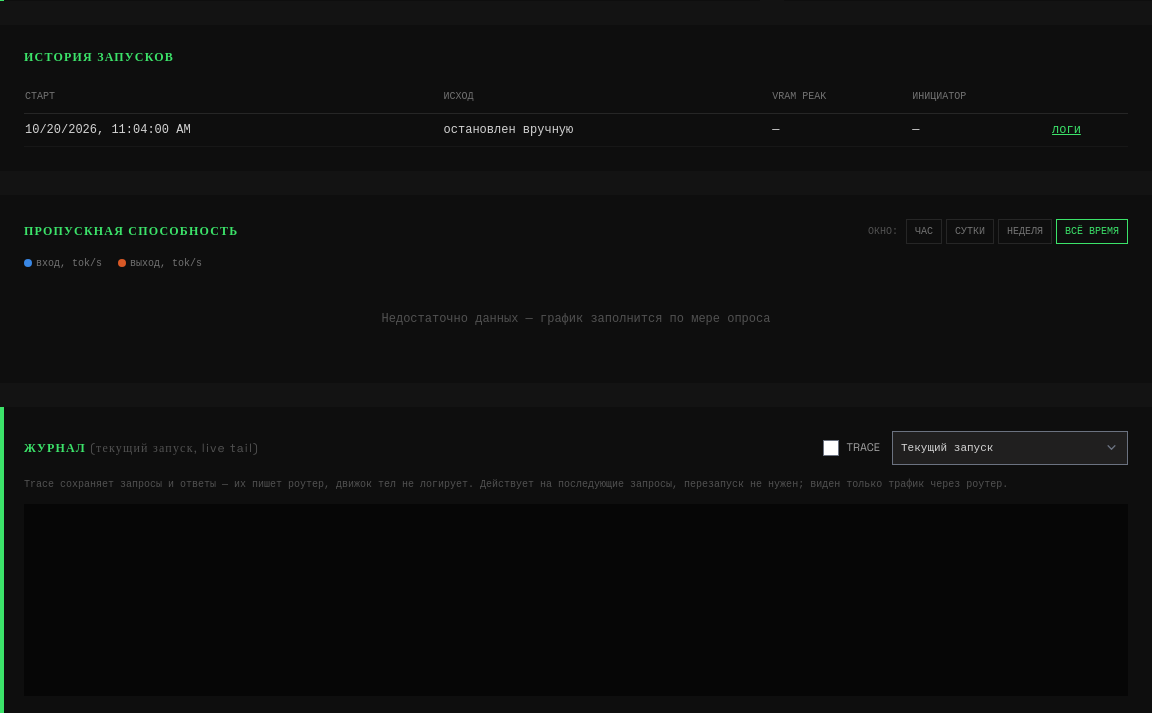
Test: InferenceDetailPage — журналы запусков › выбор завершённого запуска показывает его архивный журнал
The image size is (1152, 713).
(page scrolled)
Select "20.10.2026, 11:04:00 — остановлен" in the dropdown with test id "run-select" at [1010, 448], box [892, 430, 1128, 464]
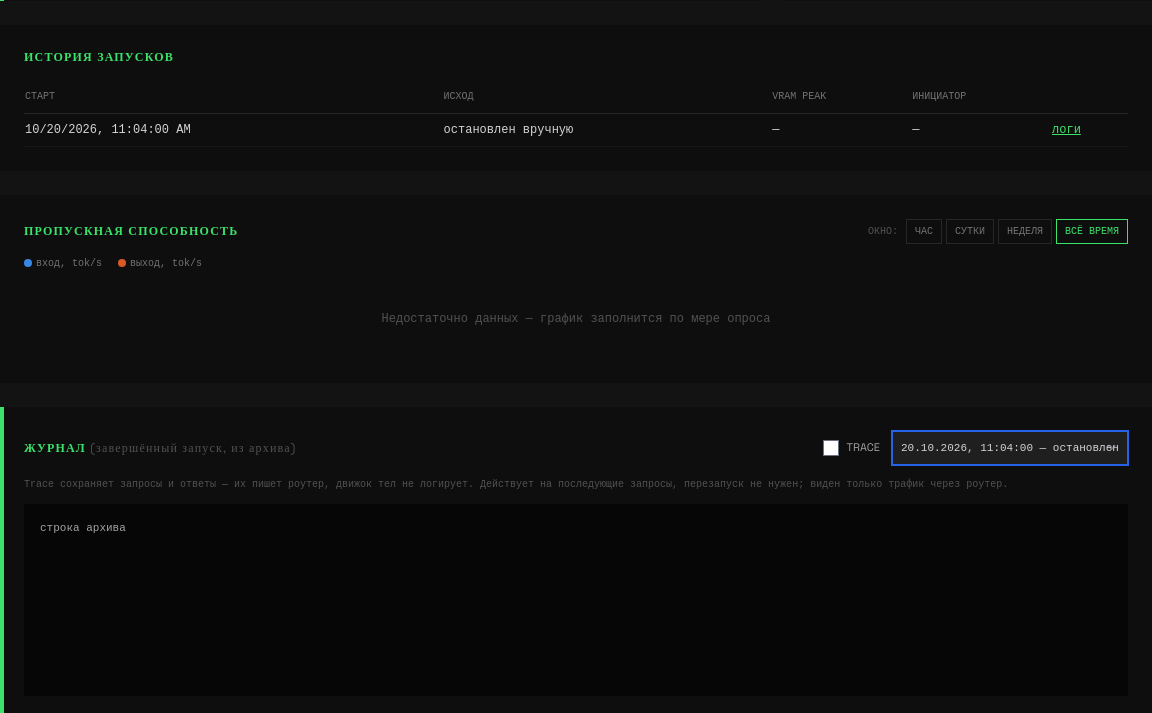
Result: the text with test id "log-view" reads "строка архива" at [40, 522, 126, 534]
